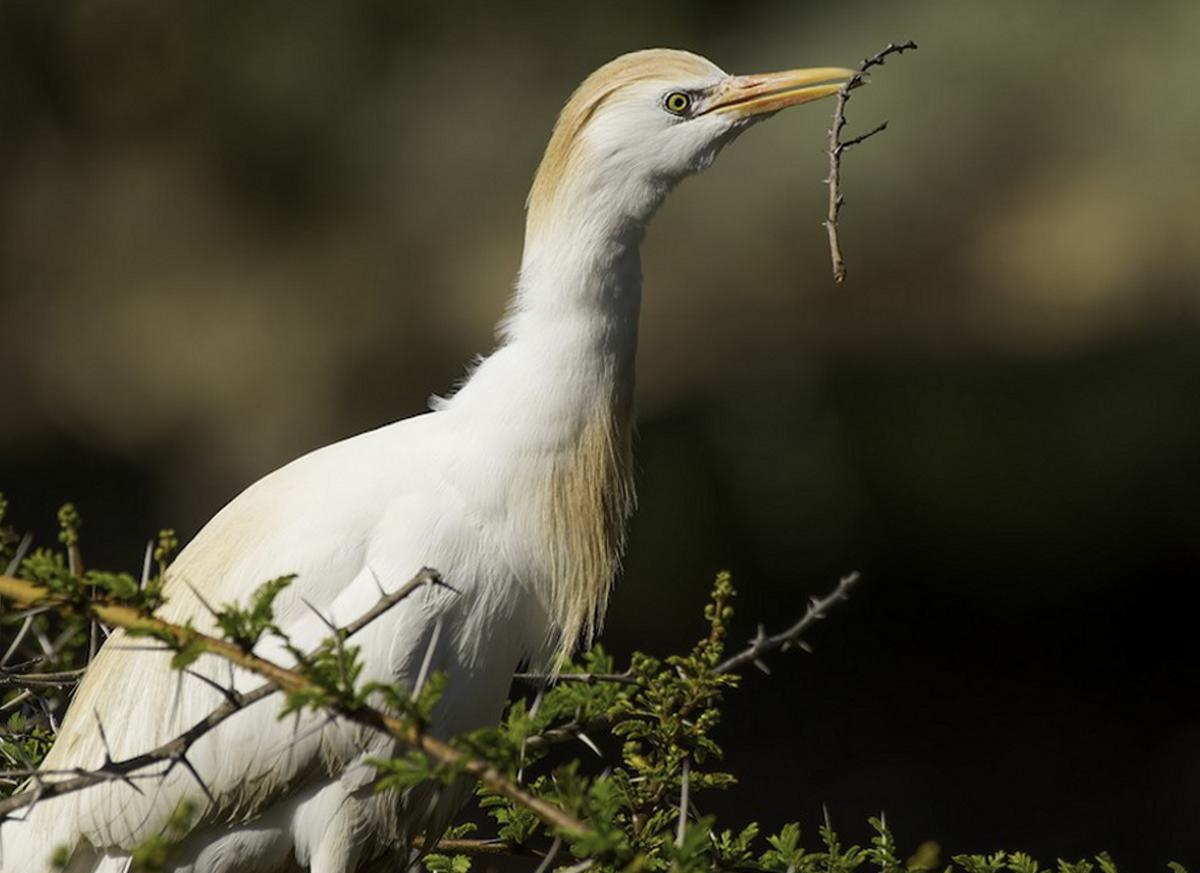egret: (60, 30, 886, 817)
